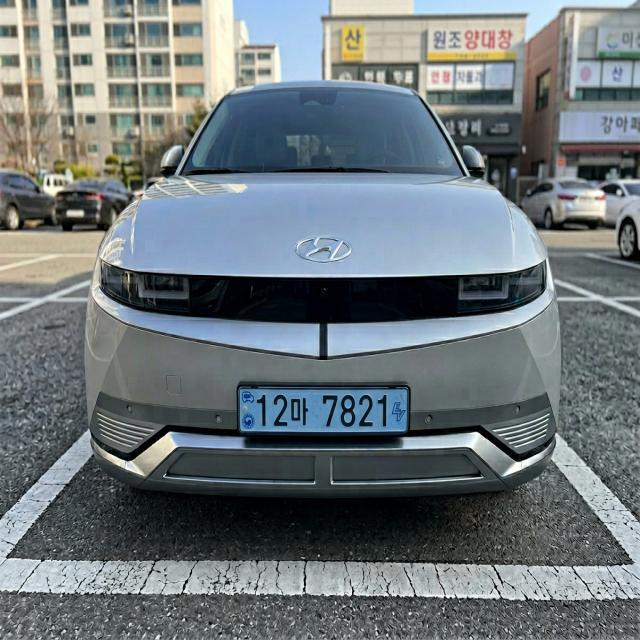car: (205, 366, 431, 454)
carev: (388, 383, 413, 442), (237, 383, 258, 438)
